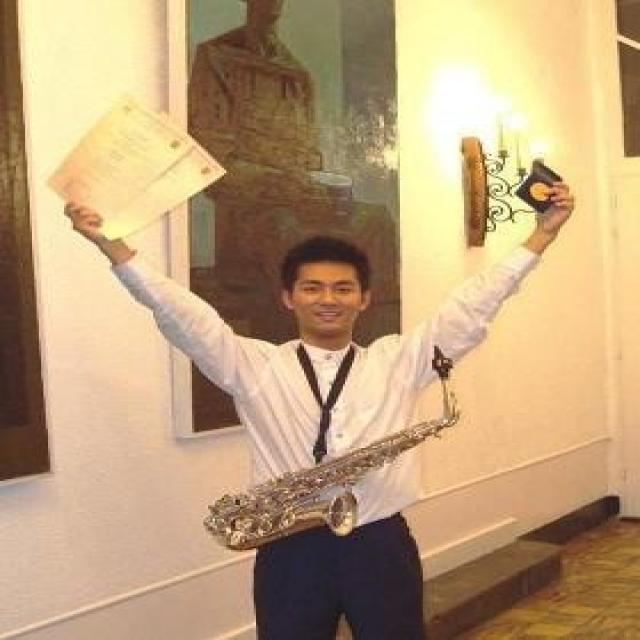saxophone: (203, 344, 464, 556)
